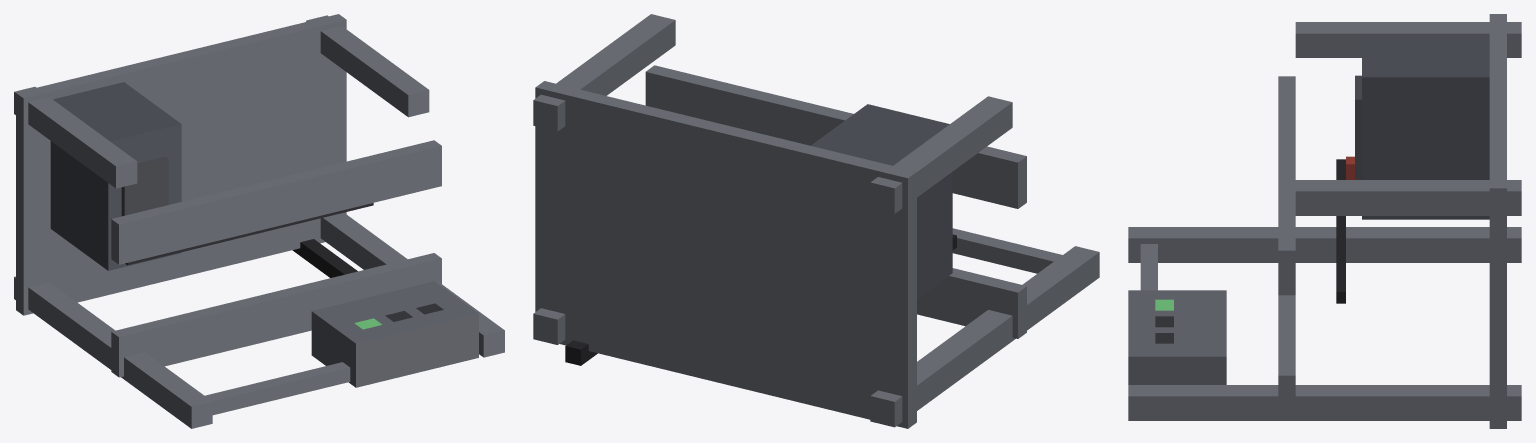
The model's file is bank_ground_standard_c1_S.obj.
3 renders of one model, left to right at view 1: azimuth 30°, elevation 25°; view 2: azimuth 150°, elevation 25°; view 3: azimuth 270°, elevation 25°, orthographic. The views are drawn at different scales.
Parts seen in each view (by area): view 1: bank_ground_standard_c1_S; view 2: bank_ground_standard_c1_S; view 3: bank_ground_standard_c1_S.
Boxes of the visible parts, x1,y1,x2,y2 form: bank_ground_standard_c1_S: (14,14,504,428); bank_ground_standard_c1_S: (533,14,1099,428); bank_ground_standard_c1_S: (1128,14,1521,428).
Bounding box in the file's own units: 0.84 × 0.56 × 0.8.
Materials: 1 (1 with a texture image).
